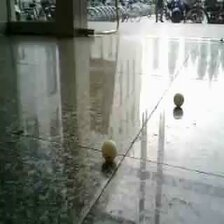w: (101, 140, 118, 161), (173, 92, 185, 107)
